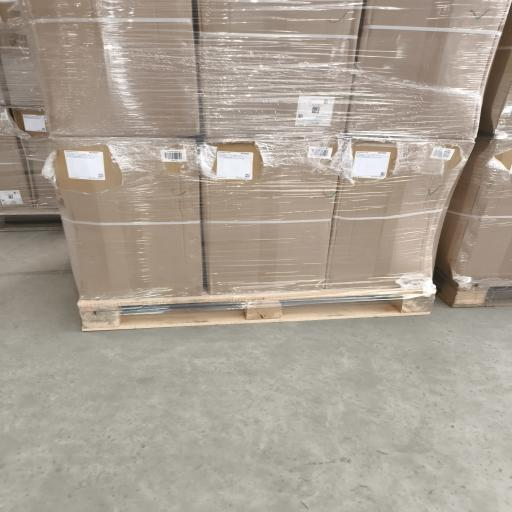pallet: (79, 289, 434, 330), (436, 272, 511, 307), (0, 214, 63, 231)
